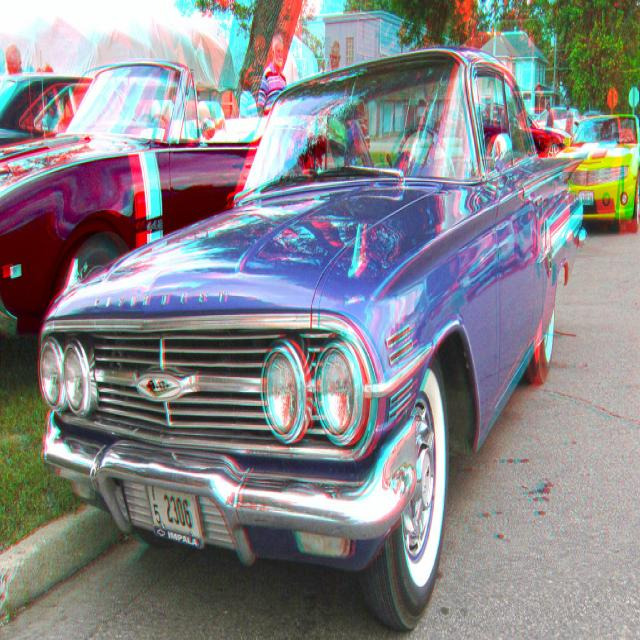car: (42, 58, 580, 611)
